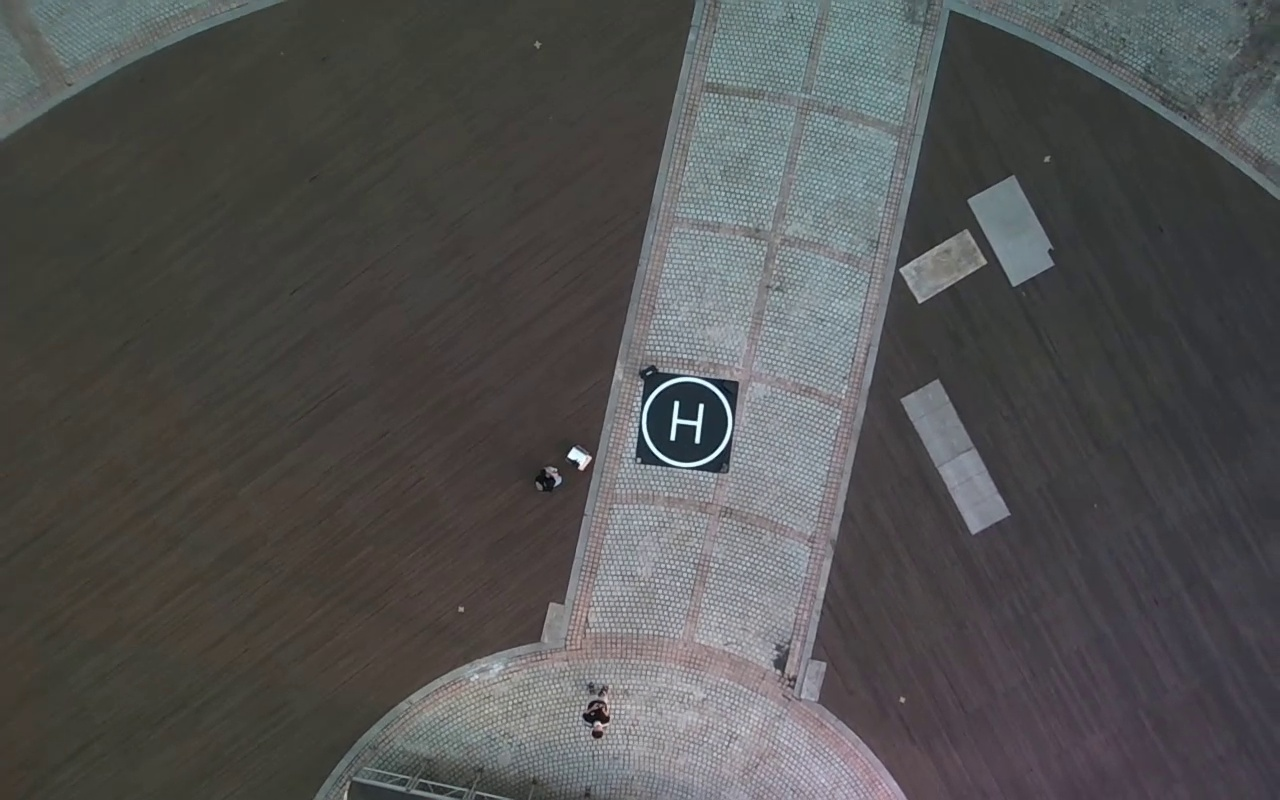H: (669, 399, 703, 443)
heliport: (640, 375, 734, 467)
